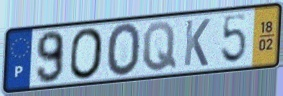5: (219, 12, 249, 66)
9: (33, 28, 66, 86)
K: (182, 17, 212, 68)
O: (106, 22, 143, 80), (69, 25, 105, 81)
Q: (142, 20, 178, 74)
